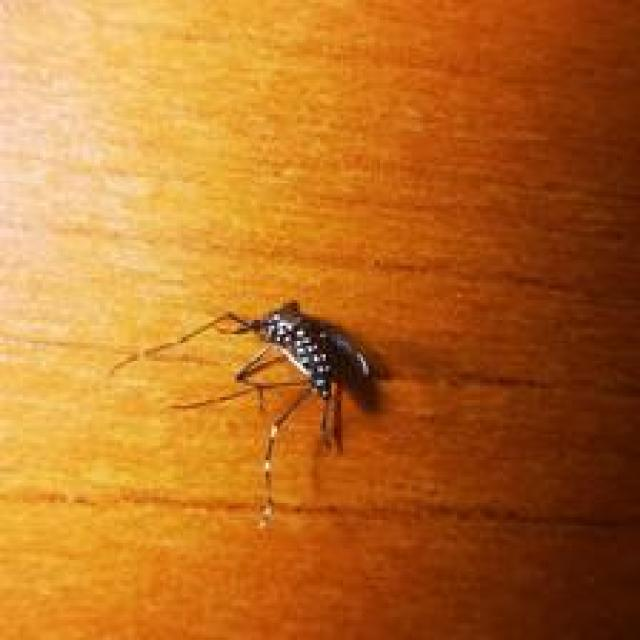Aedes albopictus: (110, 297, 390, 529)
